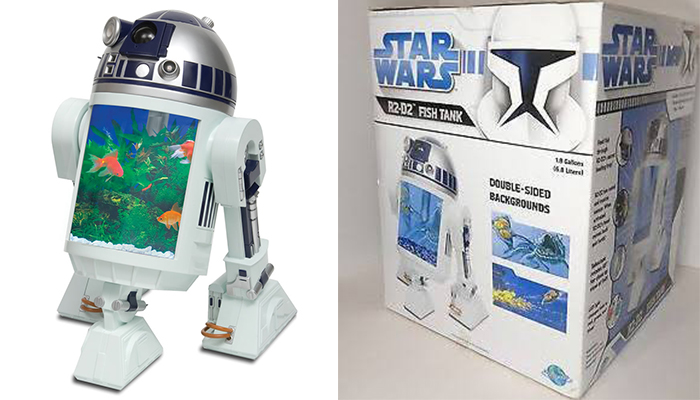r2d2: (50, 9, 294, 388), (392, 134, 490, 329)
